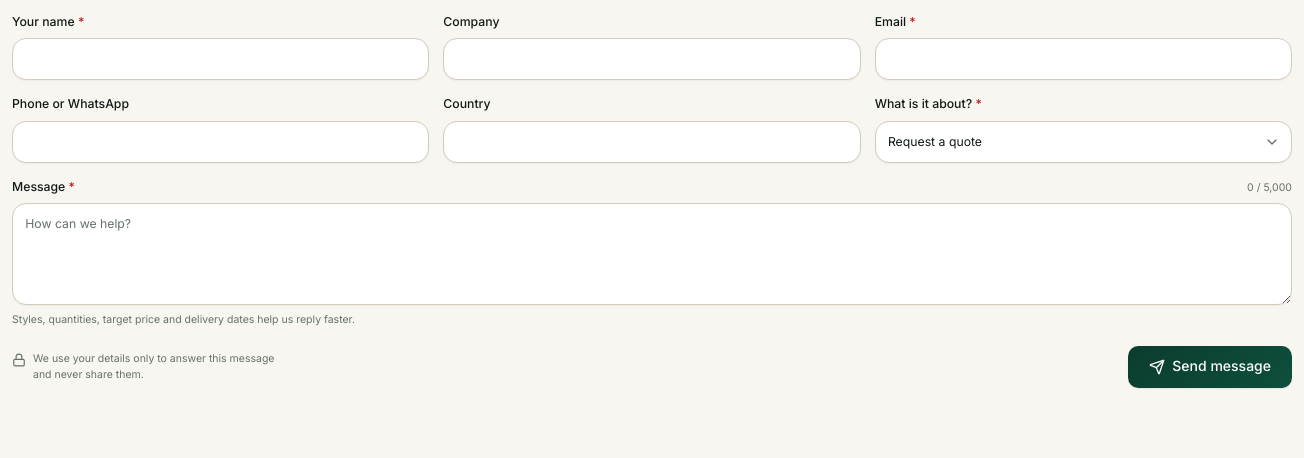
Scenario: ContactForm › shows what is missing and does not send
The width and height of the screenshot is (1304, 458).
Click the button "Send message": click(1210, 367) top-left (1128, 346), bottom-right (1292, 388)
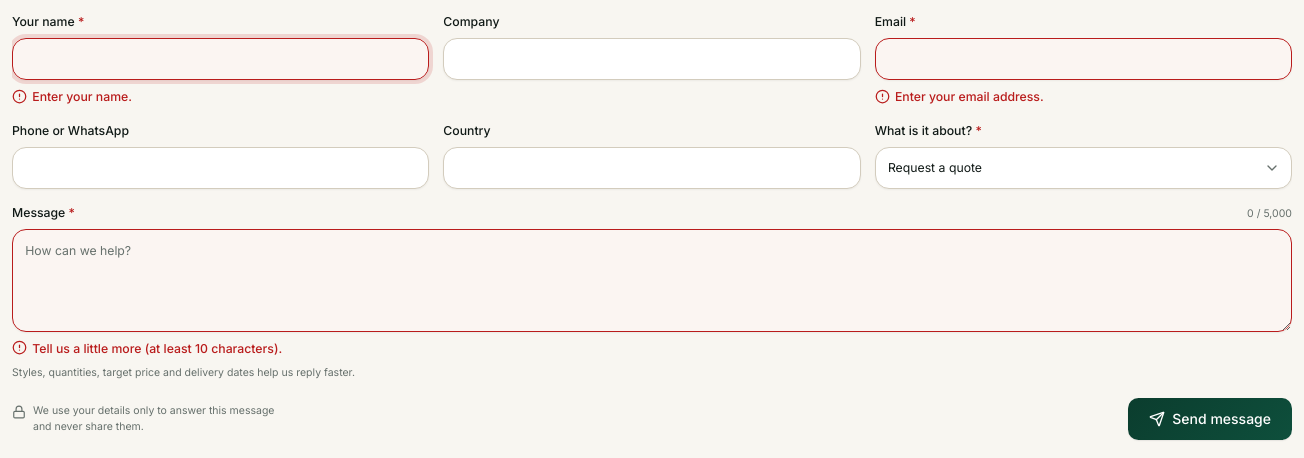
Check: the text "Enter your name." is shown, box top-left (32, 87), bottom-right (132, 107)
Check: the text "Enter your email address." is shown, box top-left (895, 87), bottom-right (1044, 107)
Check: the text "Tell us a little more (at least 10 characters)." is shown, box top-left (32, 339), bottom-right (282, 358)
